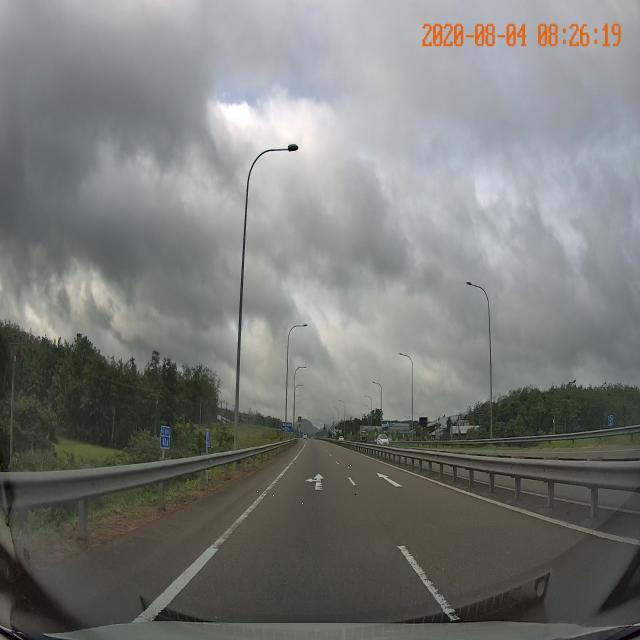forward_lft: (253, 460, 378, 506)
